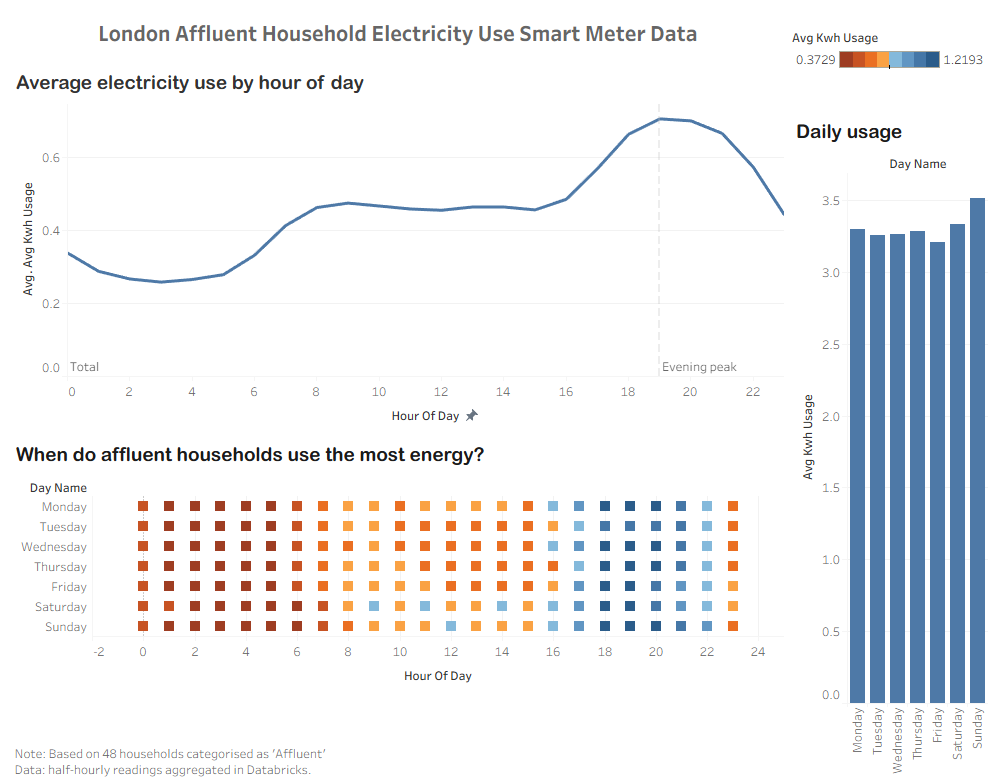

The page's visual inventory and layout, read from the dashboard file:
{"tool":"tableau","page":{"name":"London Energy Overview","canvas":[1000,800],"ordinal":0},"visuals":[{"type":"text","box":[8,8,780,60]},{"type":"legend","title":"Load Curve","param":"[federated.1ji5uqp0erfwru1bw98nm0sdhmw8].[none:Acorn_grouped:nk]","box":[788,8,204,22]},{"type":"legend","title":"Usage Heatmap","param":"[federated.1ji5uqp0erfwru1bw98nm0sdhmw8].[sum:avg_kwh_usage:qk]","box":[788,30,204,87]},{"type":"worksheet","title":"Load Curve","mark":"Automatic","rows":["avg_kwh_usage"],"cols":["hour_of_day"],"box":[8,68,780,372]},{"type":"worksheet","title":"Weekday vs Weekend","mark":"Automatic","rows":["avg_kwh_usage"],"cols":["day_name"],"box":[788,117,204,675]},{"type":"worksheet","title":"Usage Heatmap","mark":"Square","rows":["day_name"],"cols":["hour_of_day"],"box":[8,440,780,301]},{"type":"text","box":[8,741,780,51]}]}

Visuals, with their boxes in screenshot pixels (x1, y1, x2, y2), scaled from the page's 1000x800 canvas onto the 995x783 screenshot:
text: region(8, 8, 784, 67)
"Load Curve" legend: region(784, 8, 987, 29)
"Usage Heatmap" legend: region(784, 29, 987, 115)
"Load Curve" worksheet: region(8, 67, 784, 431)
"Weekday vs Weekend" worksheet: region(784, 115, 987, 775)
"Usage Heatmap" worksheet (Square marks): region(8, 431, 784, 725)
text: region(8, 725, 784, 775)
